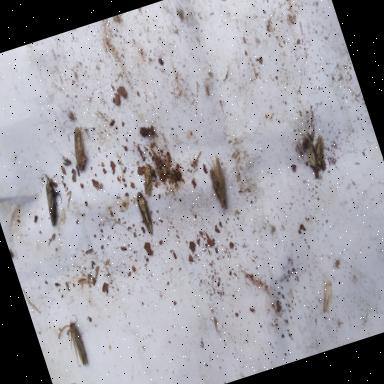pbw: (54, 312, 92, 372), (33, 168, 72, 226), (202, 151, 238, 213), (63, 122, 92, 170), (132, 186, 157, 234), (300, 134, 326, 180), (136, 159, 160, 199), (309, 131, 330, 163)
